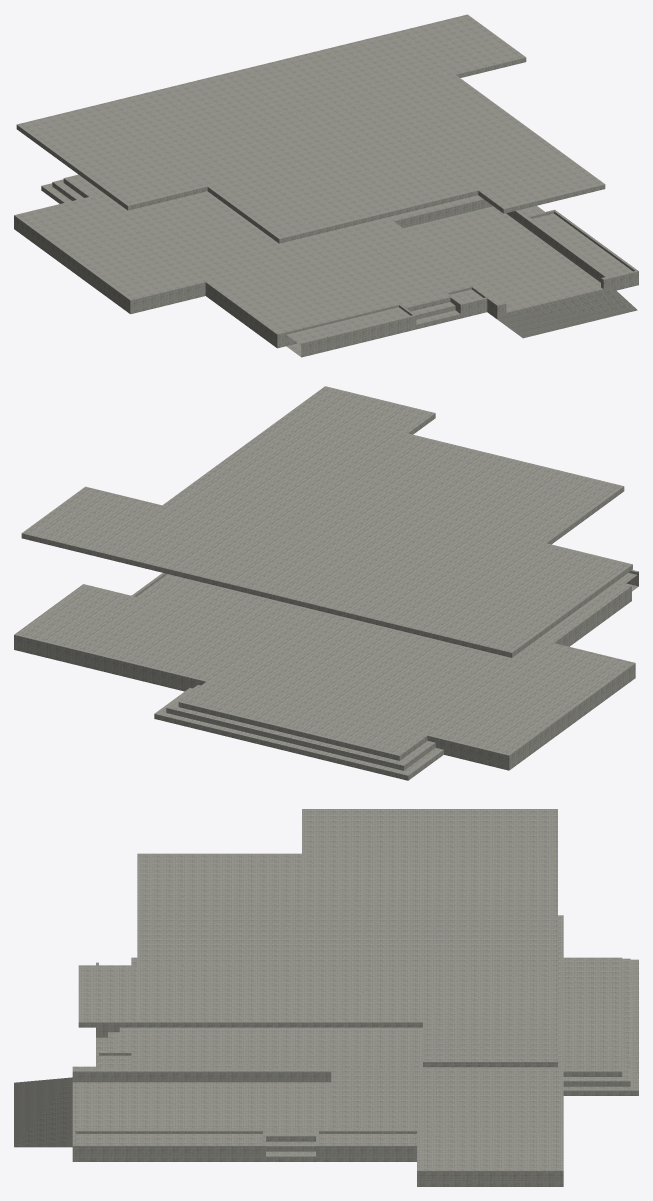
Rendered from floor_ceiling.obj.
3 views of the same model, one above another, from view 1: azimuth 30°, elevation 25°; view 2: azimuth 150°, elevation 25°; view 3: azimuth 270°, elevation 25° (orthographic). The views are drawn at different scales.
Visible parts, largest first — view 1: floor/ceiling_MH1_OBJ_03; view 2: floor/ceiling_MH1_OBJ_03; view 3: floor/ceiling_MH1_OBJ_03.
Boxes of the visible parts, x1,y1,x2,y2 form: floor/ceiling_MH1_OBJ_03: (14, 14, 638, 357); floor/ceiling_MH1_OBJ_03: (14, 386, 638, 780); floor/ceiling_MH1_OBJ_03: (14, 809, 638, 1186).
Size of the model in its own units: 618 by 138 by 639.
Materials: 1 (1 with a texture image).
